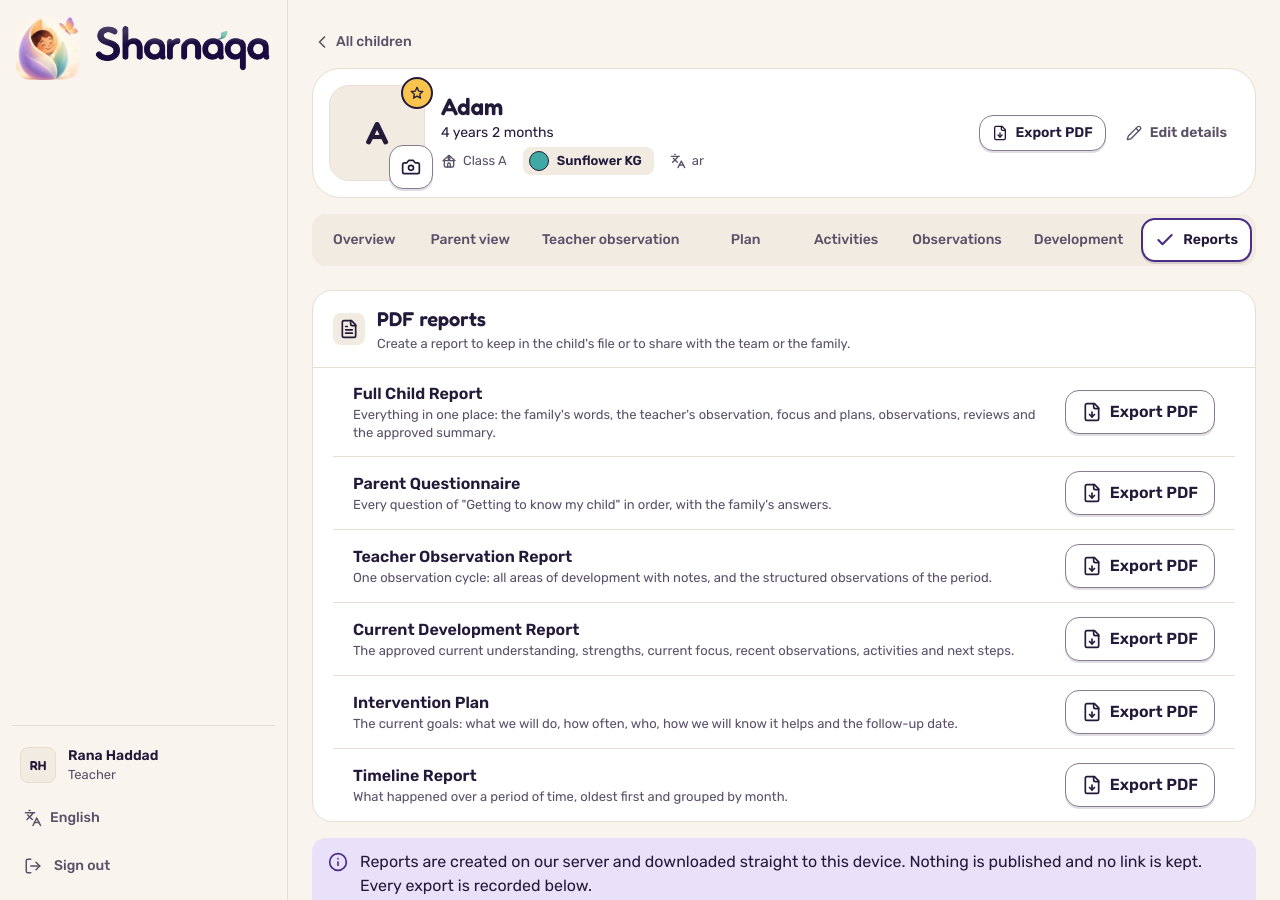
Reports tab › shows a busy renderer as a localized message and keeps the dialog open
Click the button with aria-label "Export PDF: Timeline Report": (1140, 785) [1065, 763, 1215, 807]
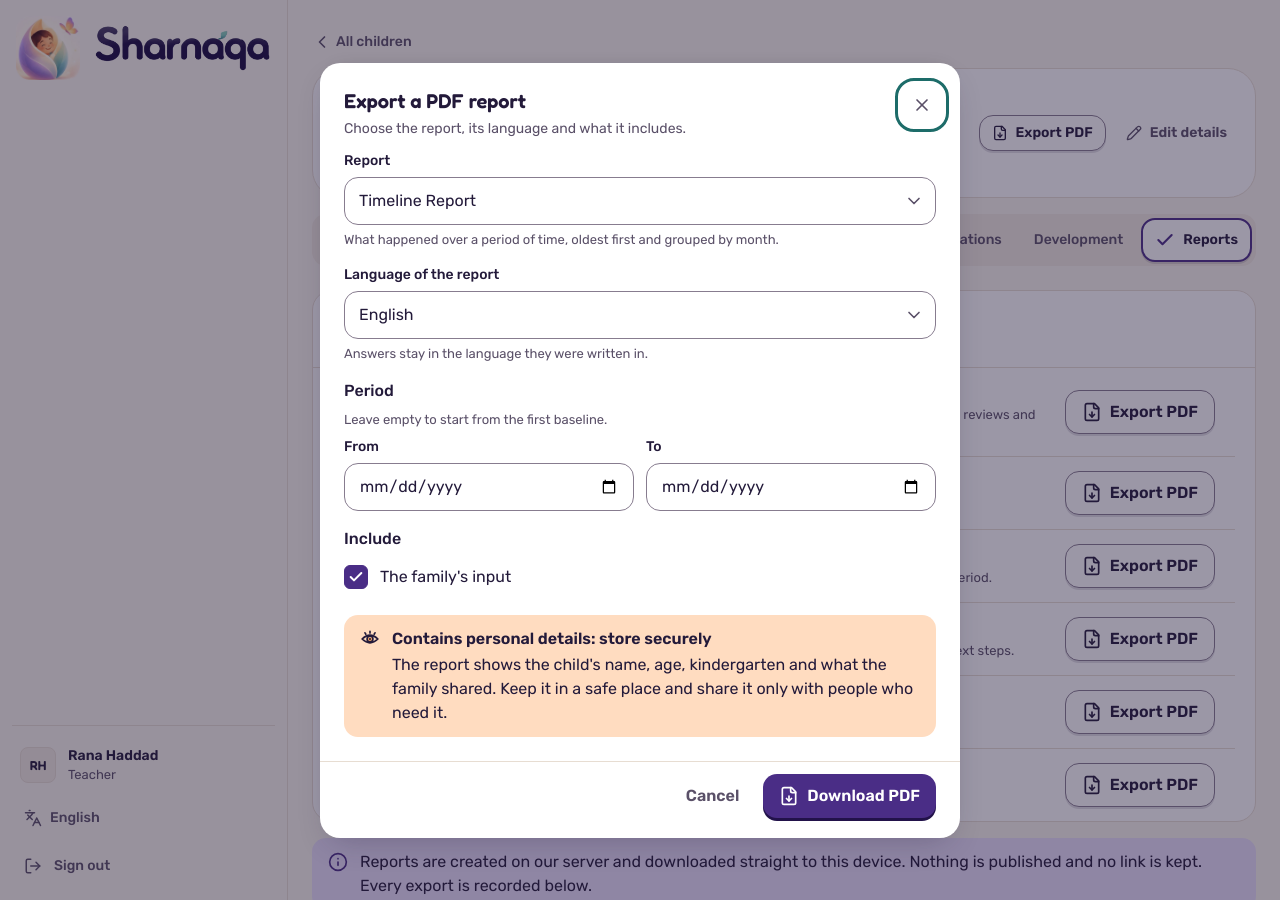
Click the button "Download PDF": (850, 796) [763, 774, 936, 818]
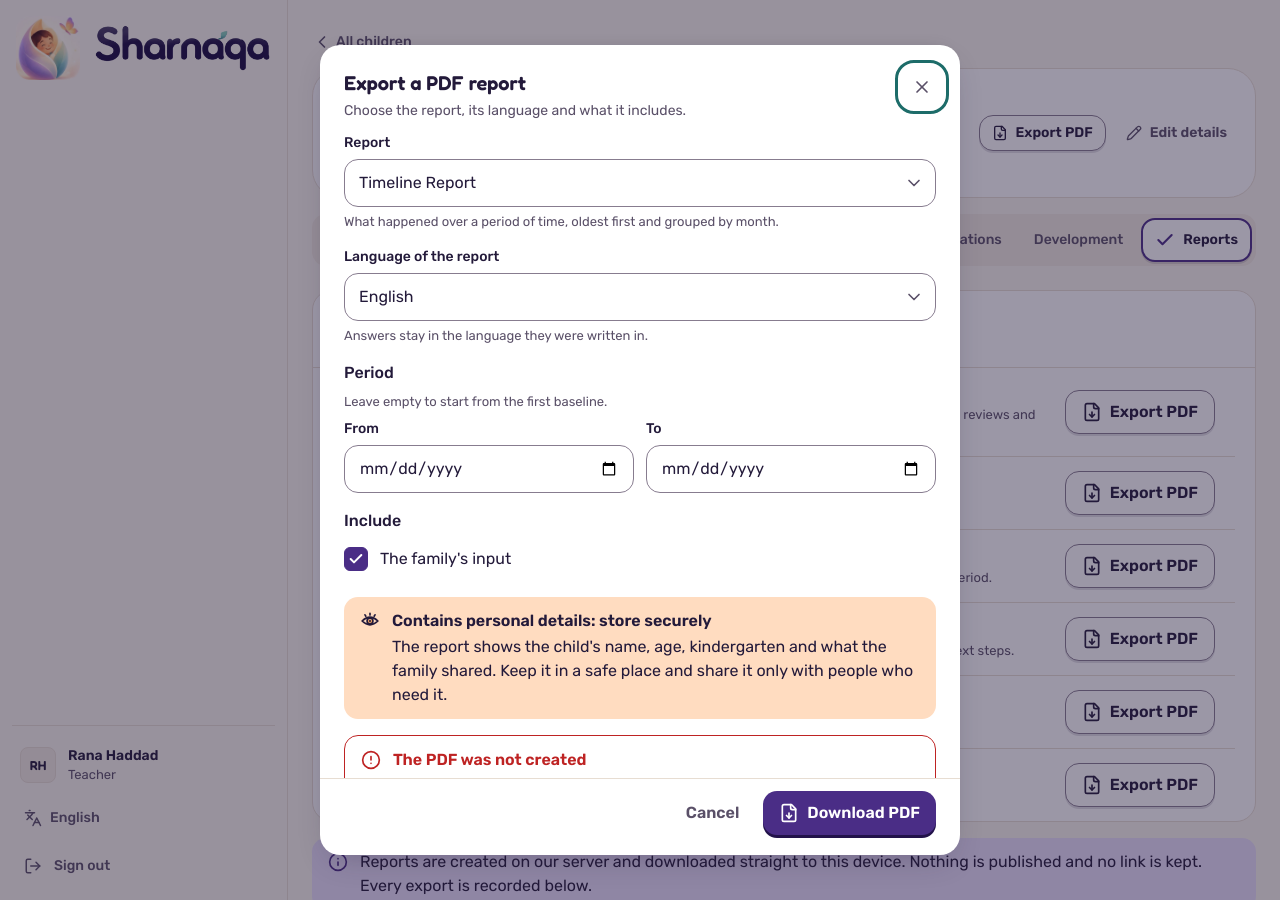
Now the text "The PDF was not created" is shown, box [393, 750, 586, 769]
